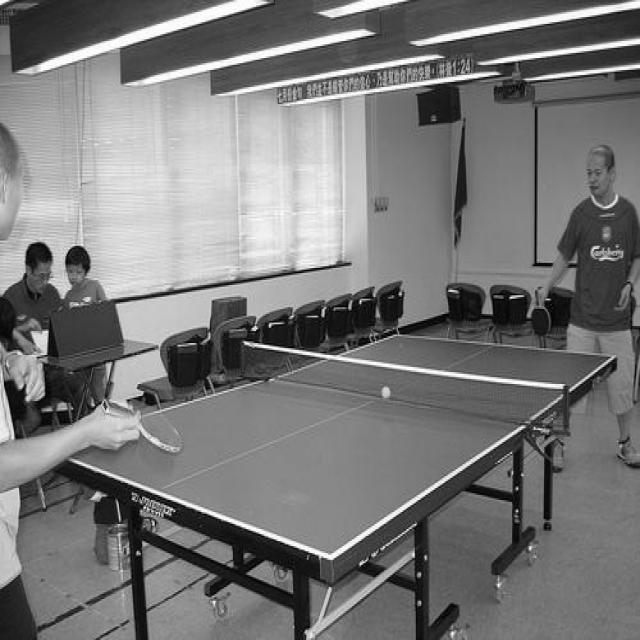ping-pong-ball: (380, 386, 390, 399)
